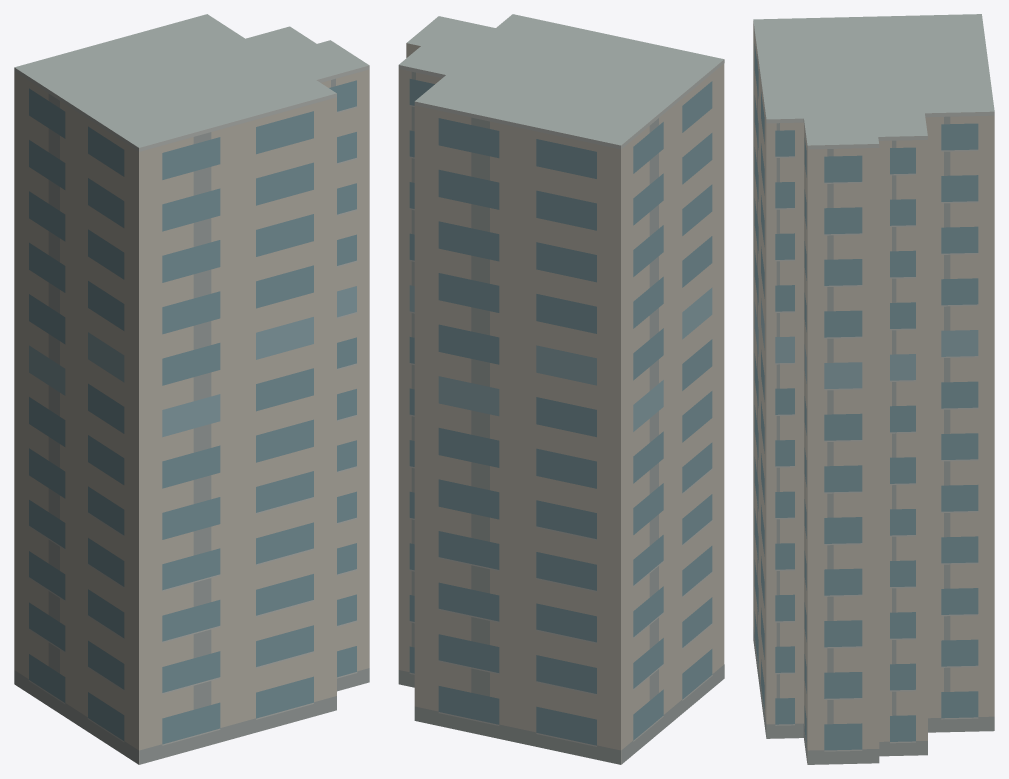
File: residential-4e8f1f4d-e241-4e7d-b38b-e1e05fcd5c9e.glb
The picture shows the model from 3 angles, left to right: view 1: azimuth 30°, elevation 25°; view 2: azimuth 150°, elevation 25°; view 3: azimuth 270°, elevation 25°; orthographic projection.
Parts seen in each view (by area): view 1: residential-4e8f1f4d-e241-4e7d-b38b-e1e05fcd5c9e.tmp; view 2: residential-4e8f1f4d-e241-4e7d-b38b-e1e05fcd5c9e.tmp; view 3: residential-4e8f1f4d-e241-4e7d-b38b-e1e05fcd5c9e.tmp.
Part boxes in pixels (left/top/right/bottom): residential-4e8f1f4d-e241-4e7d-b38b-e1e05fcd5c9e.tmp: left=14, top=14, right=369, bottom=764; residential-4e8f1f4d-e241-4e7d-b38b-e1e05fcd5c9e.tmp: left=398, top=14, right=724, bottom=764; residential-4e8f1f4d-e241-4e7d-b38b-e1e05fcd5c9e.tmp: left=753, top=14, right=994, bottom=764.
Bounding box in the file's own units: 17.32 × 38 × 13.44.
